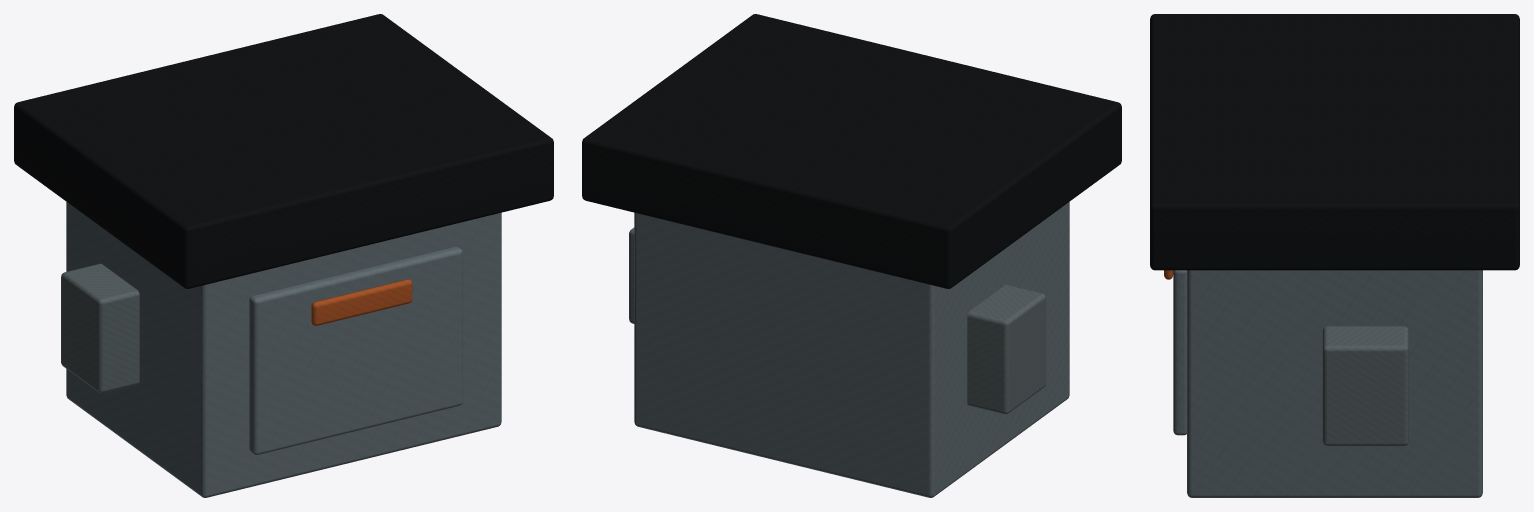
Rendered from CeilingCableJunction.fbx.
3 views of the same model, side by side, from view 1: azimuth 30°, elevation 25°; view 2: azimuth 150°, elevation 25°; view 3: azimuth 270°, elevation 25° (orthographic). The views are drawn at different scales.
Parts seen in each view (by area): view 1: CeilingCableJunction_Mesh; view 2: CeilingCableJunction_Mesh; view 3: CeilingCableJunction_Mesh.
Part boxes in pixels (x1=…): CeilingCableJunction_Mesh: x1=14, y1=14, x2=553, y2=497; CeilingCableJunction_Mesh: x1=582, y1=14, x2=1121, y2=497; CeilingCableJunction_Mesh: x1=1150, y1=14, x2=1519, y2=497.
Size of the model in its own units: 76 by 56 by 60.
